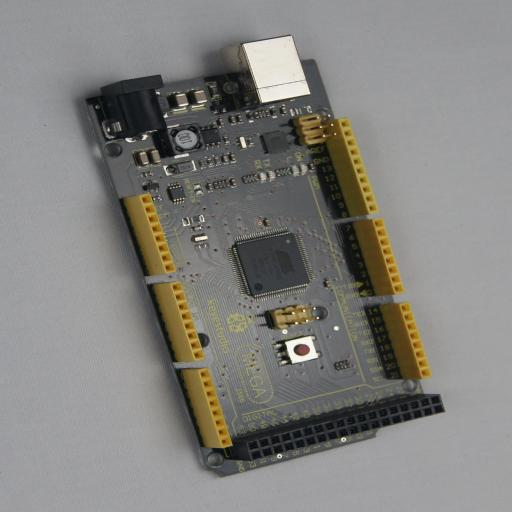Arduino Mega 2560 -Black and Yellow-: (72, 34, 445, 478)
